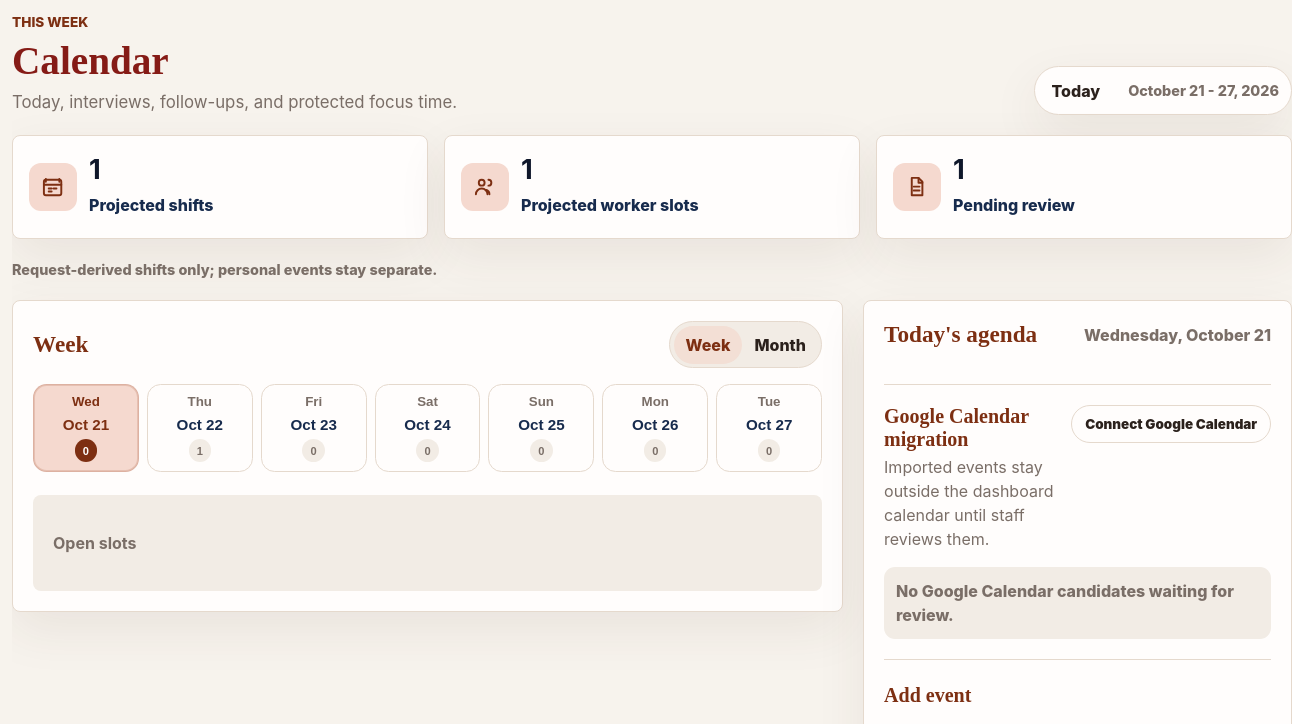
Test case: StaffCalendar › shows a recoverable notice when Google Calendar connection start fails
Click the button "Connect Google Calendar" at {"x": 1171, "y": 424}, box [1071, 405, 1271, 443]
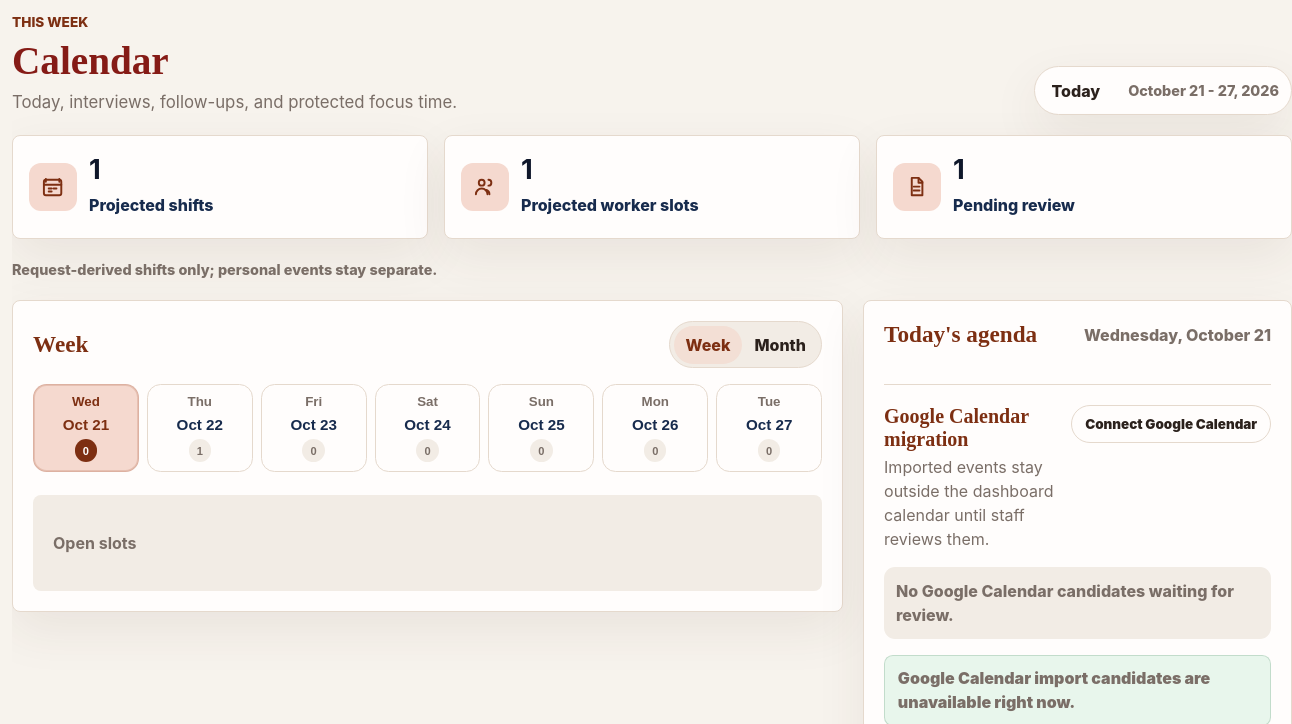
Check: the message reads "Google Calendar import candidates are unavailable right now.", box [898, 668, 1210, 712]
